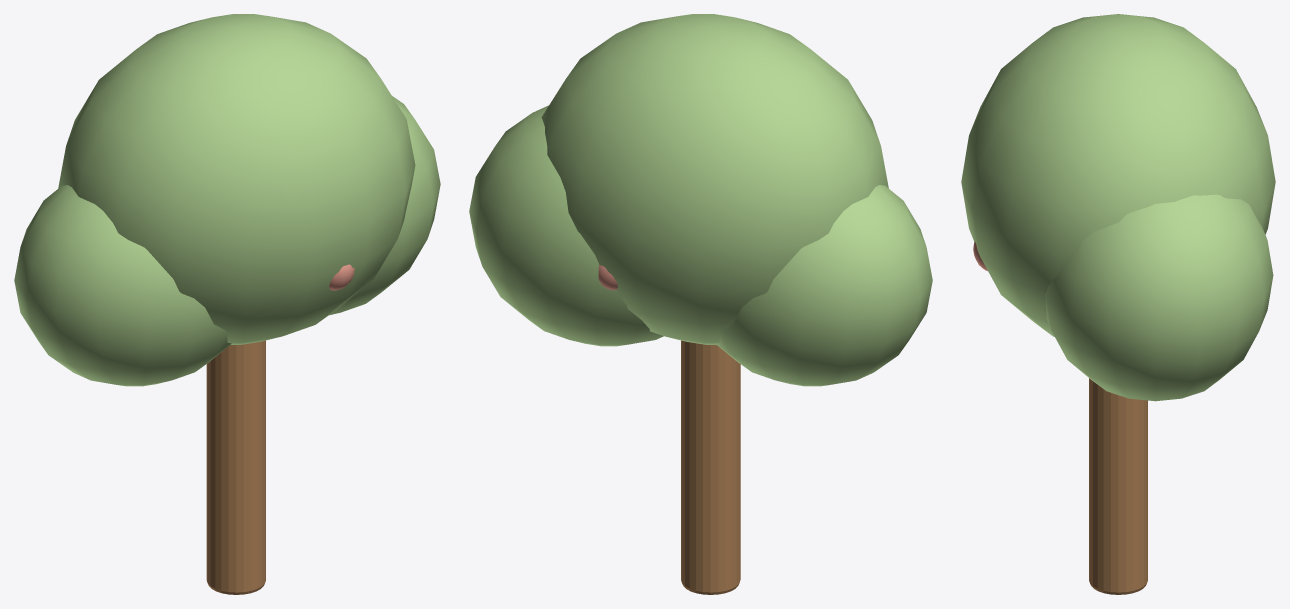
File: garden_tree.glb
3 views of the same model, side by side, from view 1: azimuth 30°, elevation 25°; view 2: azimuth 150°, elevation 25°; view 3: azimuth 270°, elevation 25° (orthographic).
Visible parts, largest first — view 1: garden_tree_Mesh; view 2: garden_tree_Mesh; view 3: garden_tree_Mesh.
Part boxes in pixels (x1,y1,x2,y2): garden_tree_Mesh: [14, 14, 440, 594]; garden_tree_Mesh: [469, 14, 932, 594]; garden_tree_Mesh: [961, 14, 1275, 594].
Bounding box in the file's own units: 2.6 × 3.3 × 1.7.
